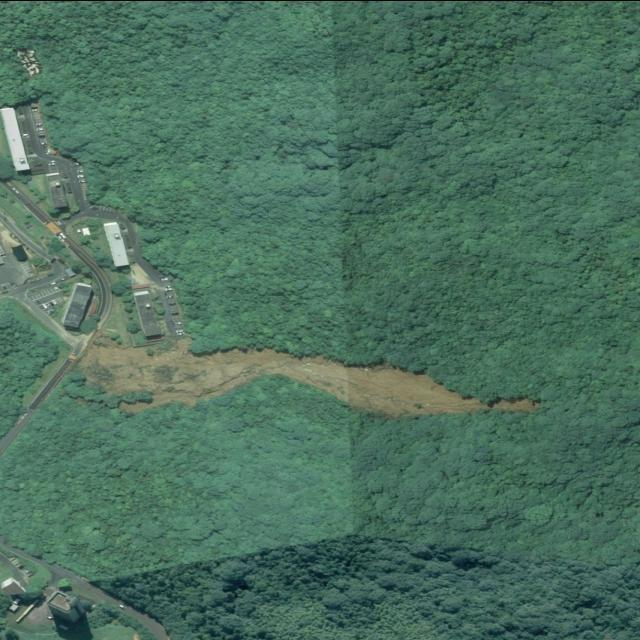landslide: (79, 340, 540, 416)
